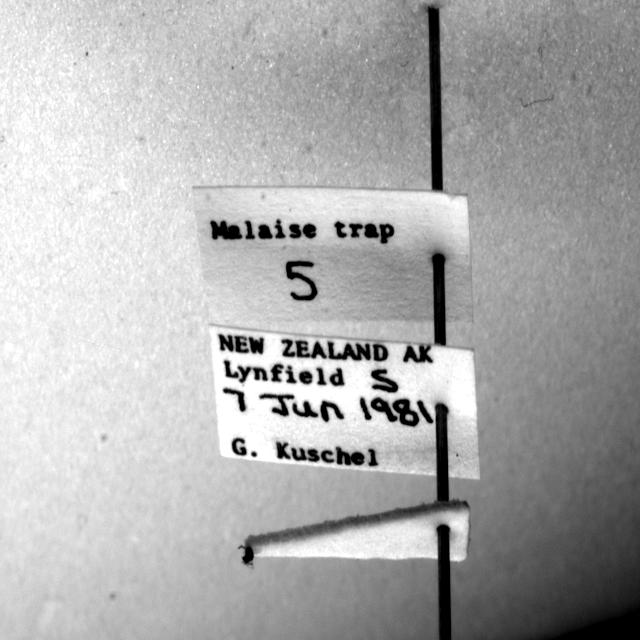mixed_label: (210, 326, 480, 478), (194, 188, 472, 324)
